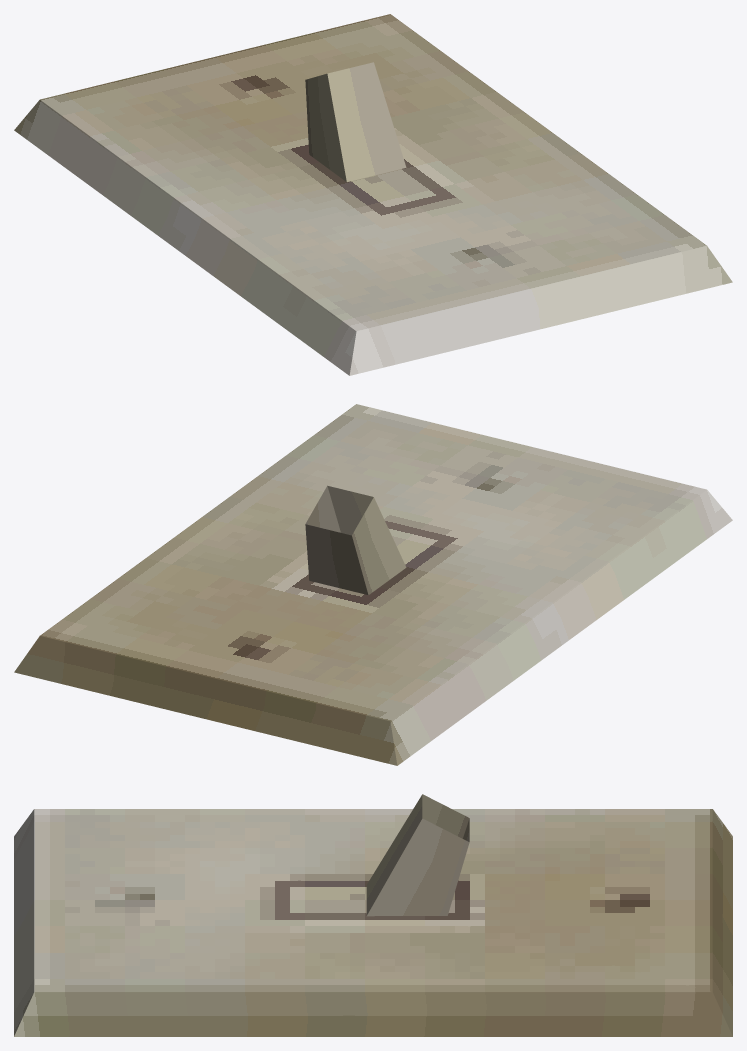
Rendered from flipswitchoff.fbx.
The picture shows the model from 3 angles, top to bottom: view 1: azimuth 30°, elevation 25°; view 2: azimuth 150°, elevation 25°; view 3: azimuth 270°, elevation 25°; orthographic projection. The views are drawn at different scales.
Visible parts, largest first — view 1: mesh_0; view 2: mesh_0; view 3: mesh_0.
Part boxes in pixels (x1,y1,x2,y2): mesh_0: (14, 14, 732, 375); mesh_0: (14, 404, 732, 765); mesh_0: (14, 794, 732, 1036).
Bounding box in the file's own units: 11.91 × 3.61 × 18.05.
1 material, 1 textured.
